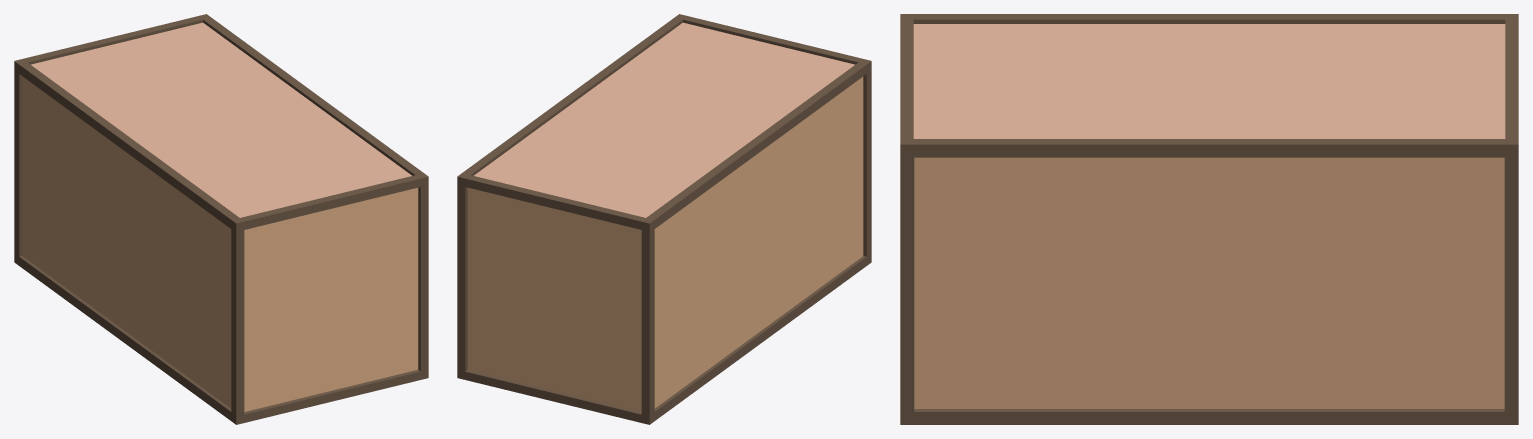
Rendered from LootBox.fbx.
3 views of the same model, side by side, from view 1: azimuth 30°, elevation 25°; view 2: azimuth 150°, elevation 25°; view 3: azimuth 270°, elevation 25° (orthographic). The views are drawn at different scales.
Parts seen in each view (by area): view 1: Cube, Cube.001; view 2: Cube, Cube.001; view 3: Cube, Cube.001.
Part boxes in pixels (x1,y1,x2,y2): Cube: [14, 14, 428, 424]; Cube.001: [31, 22, 411, 217]; Cube: [457, 14, 871, 424]; Cube.001: [474, 22, 854, 217]; Cube: [900, 14, 1518, 424]; Cube.001: [913, 24, 1505, 138].
Bounding box in the file's own units: 200 × 200 × 400.
